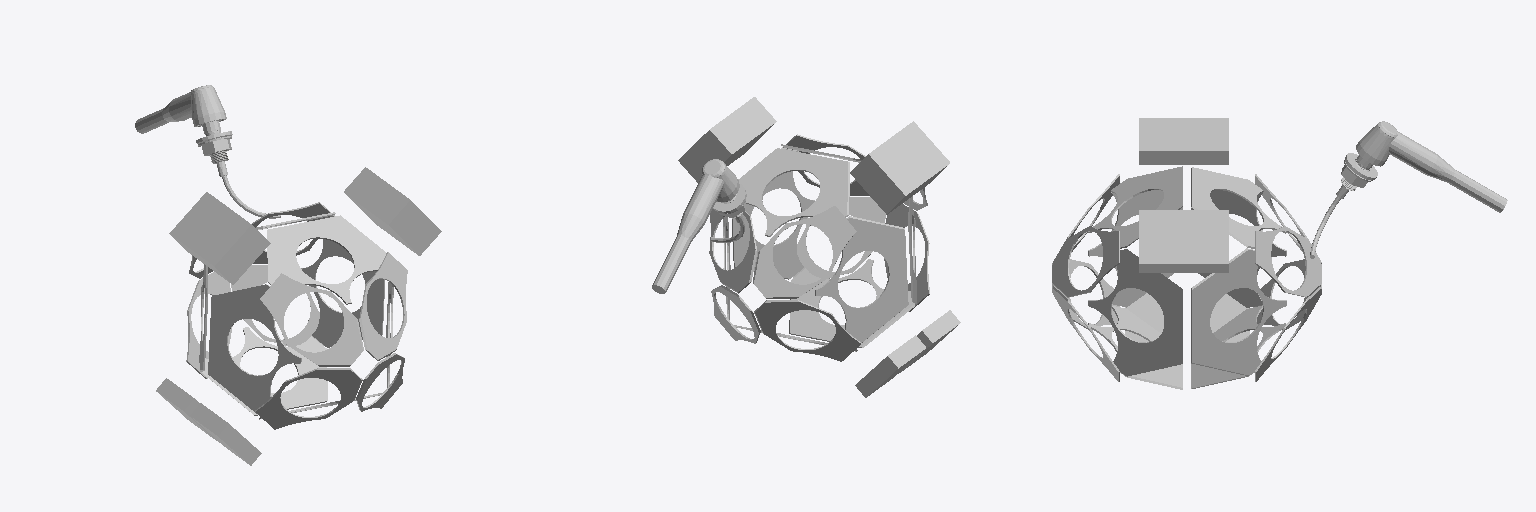
The model's file is LOM_Internal_WithPen_WithCali.obj.
3 views of the same model, side by side, from view 1: azimuth 30°, elevation 25°; view 2: azimuth 150°, elevation 25°; view 3: azimuth 270°, elevation 25° (orthographic).
Visible parts, largest first — view 1: Volumenkörper1; view 2: Volumenkörper1; view 3: Volumenkörper1.
Boxes of the visible parts, box(x1,y1,x2,y2) form: Volumenkörper1: box(135, 85, 441, 465); Volumenkörper1: box(652, 97, 960, 397); Volumenkörper1: box(1052, 118, 1507, 389).
Size of the model in its own units: 236 by 261 by 404.